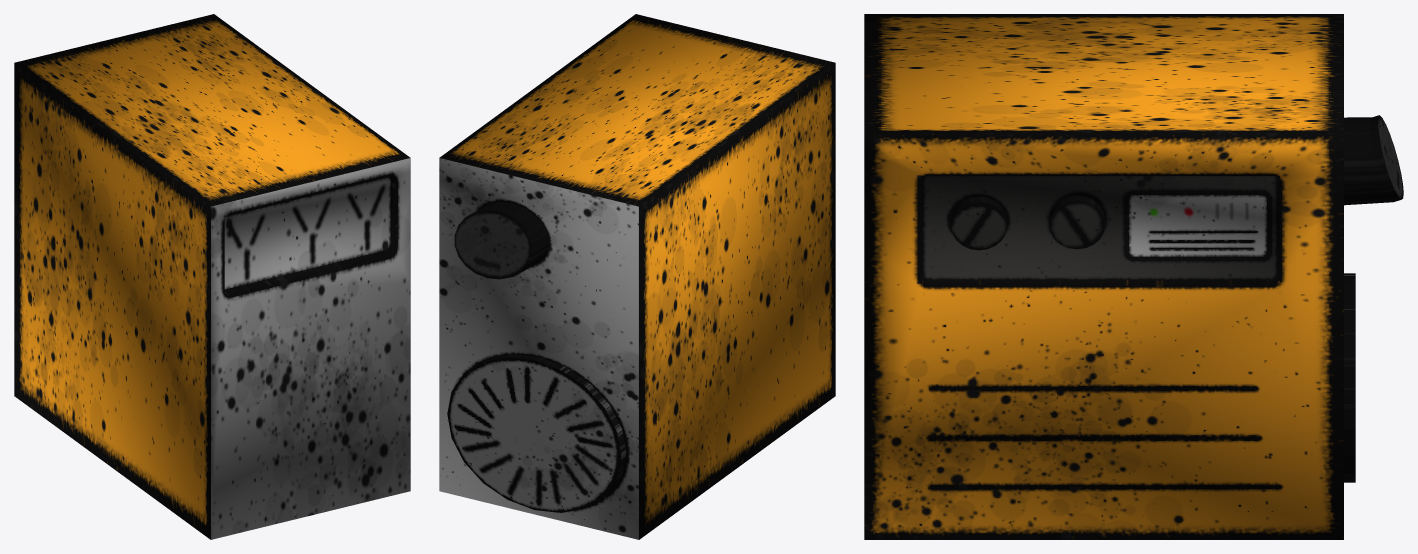
Rendered from generator.obj.
3 renders of one model, left to right at view 1: azimuth 30°, elevation 25°; view 2: azimuth 150°, elevation 25°; view 3: azimuth 270°, elevation 25°, orthographic. The views are drawn at different scales.
Visible parts, largest first — view 1: Cube; view 2: Cube; view 3: Cube.
Boxes of the visible parts, bbox=[...] form: Cube: bbox=[14, 14, 410, 539]; Cube: bbox=[439, 14, 835, 539]; Cube: bbox=[864, 14, 1403, 539].
Bounding box in the file's own units: 2.02 × 3.19 × 3.83.
